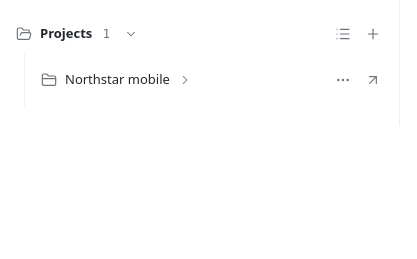
Sidebar › keeps disclosure actions independent and reports item state changes
The width and height of the screenshot is (417, 259).
Click the link named "Open Northstar page": (373, 80) left=365, top=72, right=381, bottom=88
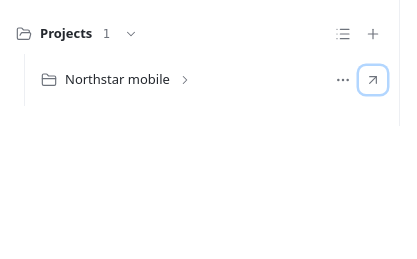
Click the button "Northstar mobile": (181, 80) left=33, top=62, right=329, bottom=98
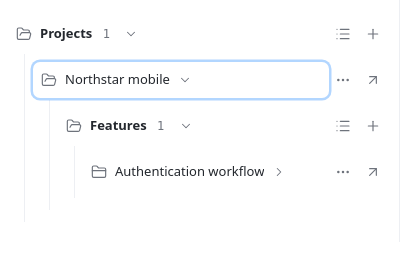
Result: the button "Northstar mobile" is expanded at left=33, top=62, right=329, bottom=98
Result: the button "Features 1" is shown at left=58, top=108, right=329, bottom=144
